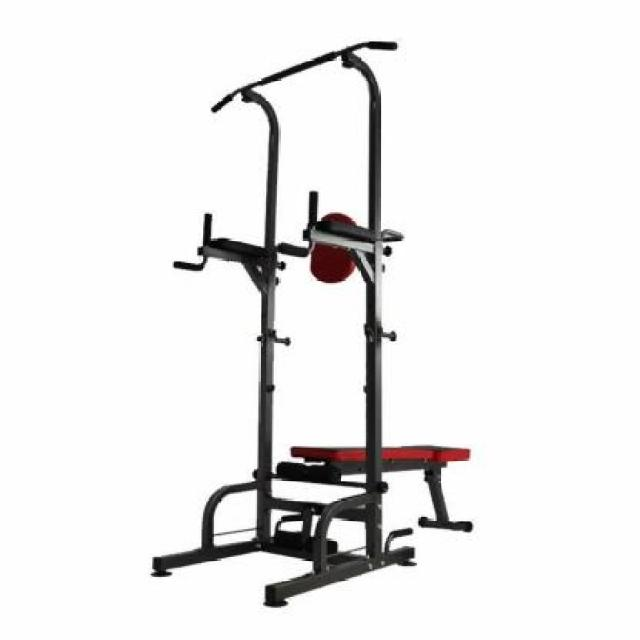chinning dipping: (146, 42, 417, 608)
